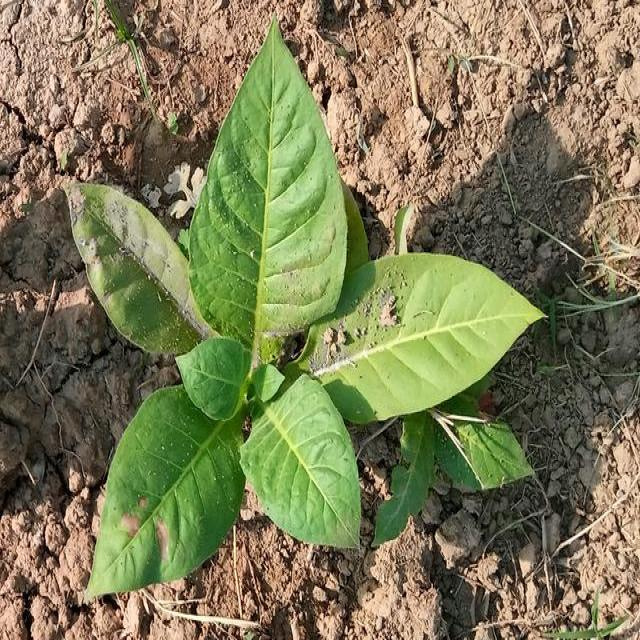crop: (50, 21, 546, 606)
